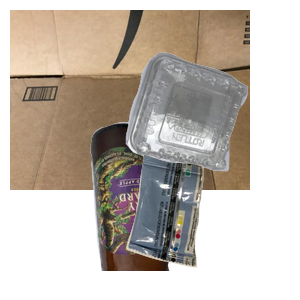cardboard: (10, 10, 250, 190)
glass: (88, 120, 252, 300)
plastic: (123, 50, 300, 214)
trash: (124, 152, 300, 300)
